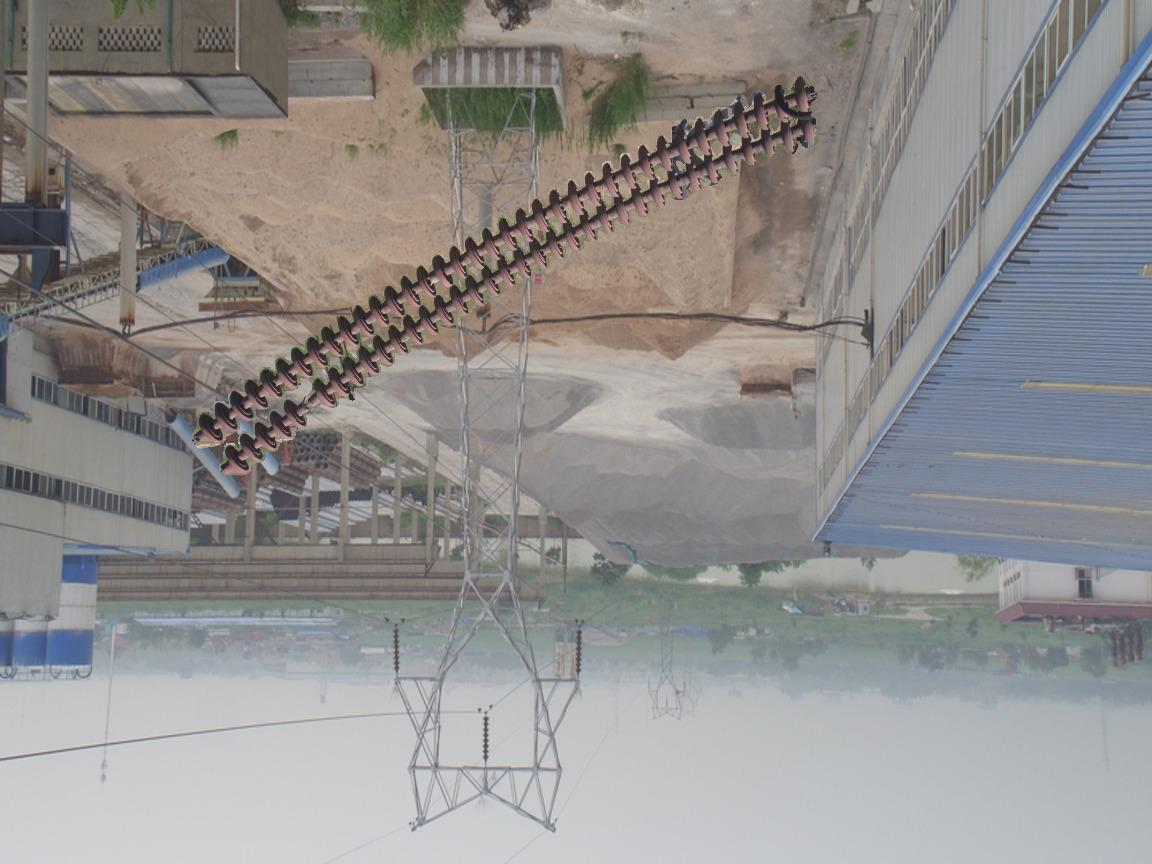insulator: (193, 72, 822, 478), (571, 626, 587, 678), (390, 623, 405, 676), (480, 711, 493, 763)
insulator_stringdrop: (281, 376, 341, 432)
